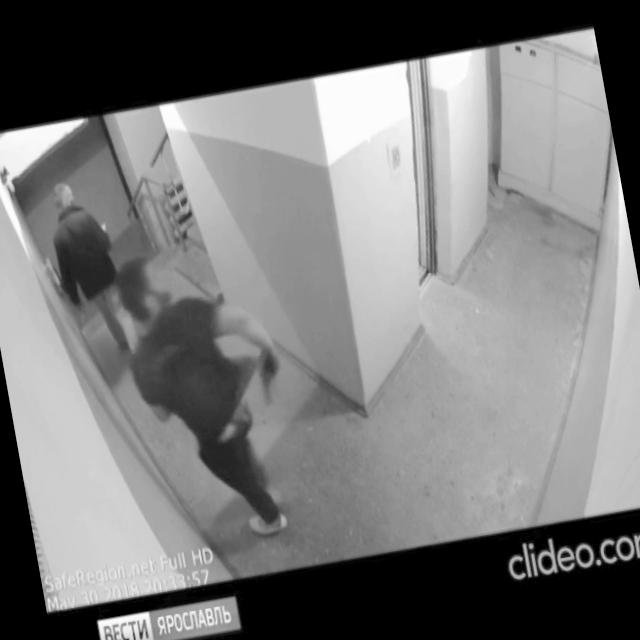gun: (250, 338, 288, 409)
person: (38, 171, 143, 371)
person with a gun: (106, 229, 312, 557)
